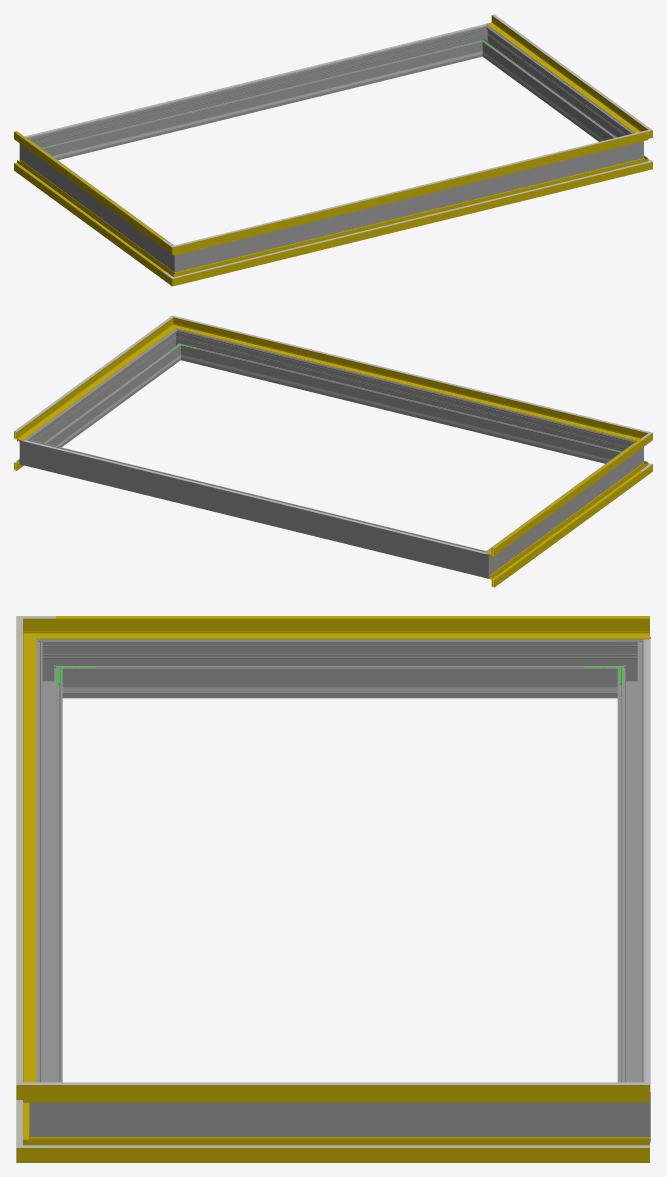
3 renders of one model, top to bottom at view 1: azimuth 30°, elevation 25°; view 2: azimuth 150°, elevation 25°; view 3: azimuth 270°, elevation 25°, orthographic. The views are drawn at different scales.
Visible parts, largest first — view 1: 3DGeom-278, 3DGeom-300, 3DGeom-90, 3DGeom-299, 3DGeom-56, 3DGeom-270, 3DGeom-85, 3DGeom-58, 3DGeom-246, 3DGeom-50, 3DGeom-222, 3DGeom-66 (+6 smaller); view 2: 3DGeom-300, 3DGeom-278, 3DGeom-56, 3DGeom-299, 3DGeom-270, 3DGeom-85, 3DGeom-58, 3DGeom-241, 3DGeom-50, 3DGeom-222, 3DGeom-66, 3DGeom-280 (+6 smaller); view 3: 3DGeom-270, 3DGeom-299, 3DGeom-97, 3DGeom-50, 3DGeom-278, 3DGeom-300, 3DGeom-58, 3DGeom-56, 3DGeom-222, 3DGeom-66, 3DGeom-234, 3DGeom-64 (+8 smaller).
Part boxes in pixels (x1,y1,x2,y2): 3DGeom-278: [38, 28, 479, 160]; 3DGeom-300: [192, 145, 626, 268]; 3DGeom-90: [186, 161, 635, 281]; 3DGeom-299: [484, 31, 630, 141]; 3DGeom-56: [188, 134, 635, 252]; 3DGeom-270: [29, 143, 169, 264]; 3DGeom-85: [14, 159, 167, 278]; 3DGeom-58: [486, 15, 640, 132]; 3DGeom-246: [58, 55, 465, 157]; 3DGeom-50: [14, 132, 162, 247]; 3DGeom-222: [24, 24, 486, 137]; 3DGeom-66: [188, 133, 635, 243]; 3DGeom-300: [183, 332, 624, 463]; 3DGeom-278: [36, 442, 474, 574]; 3DGeom-56: [185, 321, 634, 439]; 3DGeom-299: [32, 335, 179, 447]; 3DGeom-270: [493, 447, 633, 568]; 3DGeom-85: [489, 467, 642, 587]; 3DGeom-58: [14, 323, 170, 442]; 3DGeom-241: [197, 358, 604, 460]; 3DGeom-50: [486, 440, 642, 557]; 3DGeom-222: [23, 440, 486, 553]; 3DGeom-66: [188, 319, 635, 429]; 3DGeom-280: [471, 546, 498, 578]; 3DGeom-270: [69, 639, 610, 698]; 3DGeom-299: [69, 1102, 610, 1136]; 3DGeom-97: [56, 1137, 649, 1162]; 3DGeom-50: [56, 618, 649, 639]; 3DGeom-278: [617, 653, 644, 1082]; 3DGeom-300: [36, 653, 62, 1082]; 3DGeom-58: [56, 1085, 649, 1102]; 3DGeom-56: [16, 633, 36, 1082]; 3DGeom-222: [644, 639, 650, 1091]; 3DGeom-66: [16, 633, 22, 1068]; 3DGeom-234: [101, 687, 579, 692]; 3DGeom-64: [56, 1082, 649, 1084].
Size of the model in its own units: 4.27 by 0.3303 by 2.44.
